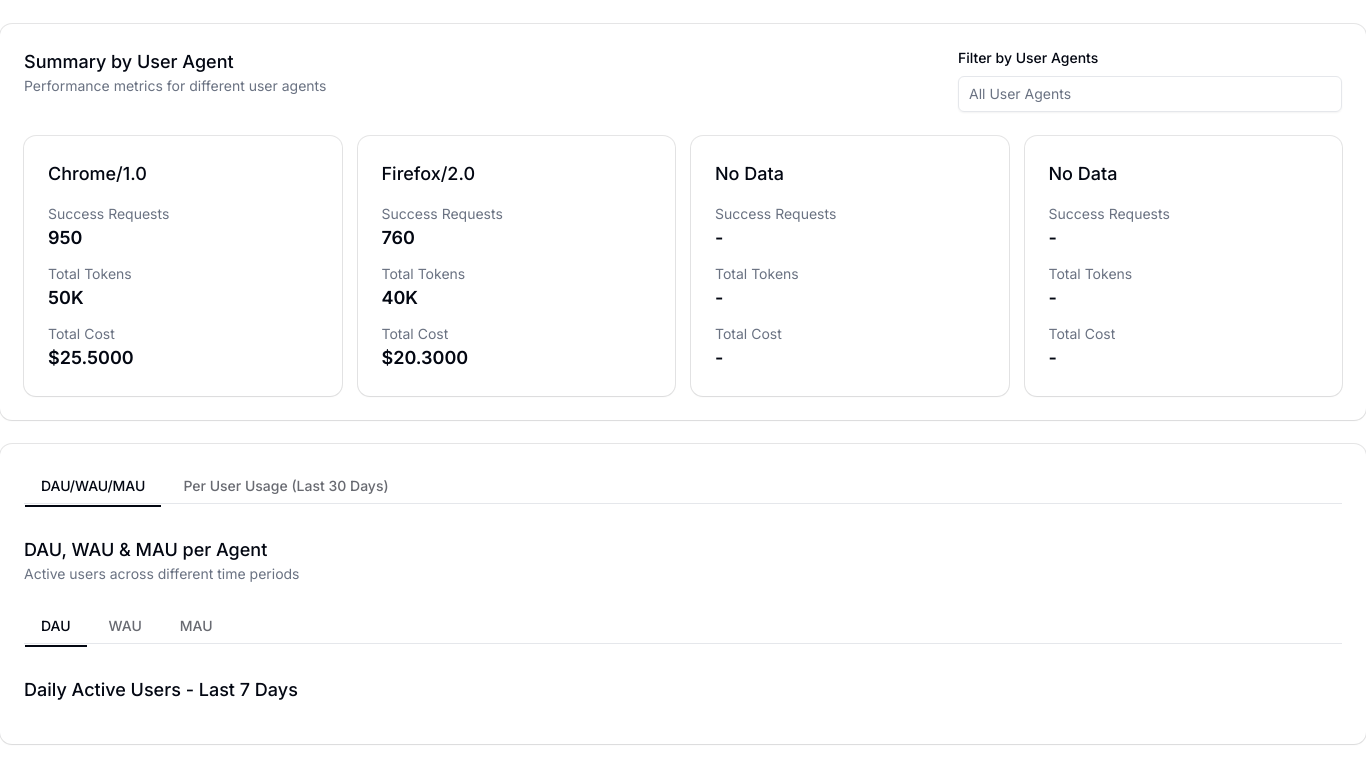
Test case: UserAgentActivity › should switch between DAU, WAU, and MAU tabs
Expected: the heading "Daily Active Users - Last 7 Days" is shown, [24,679,298,700]
# Find all WAU tab buttons (there might be multiple)
Click the tab "WAU" at (125, 626), box [92,608,159,642]
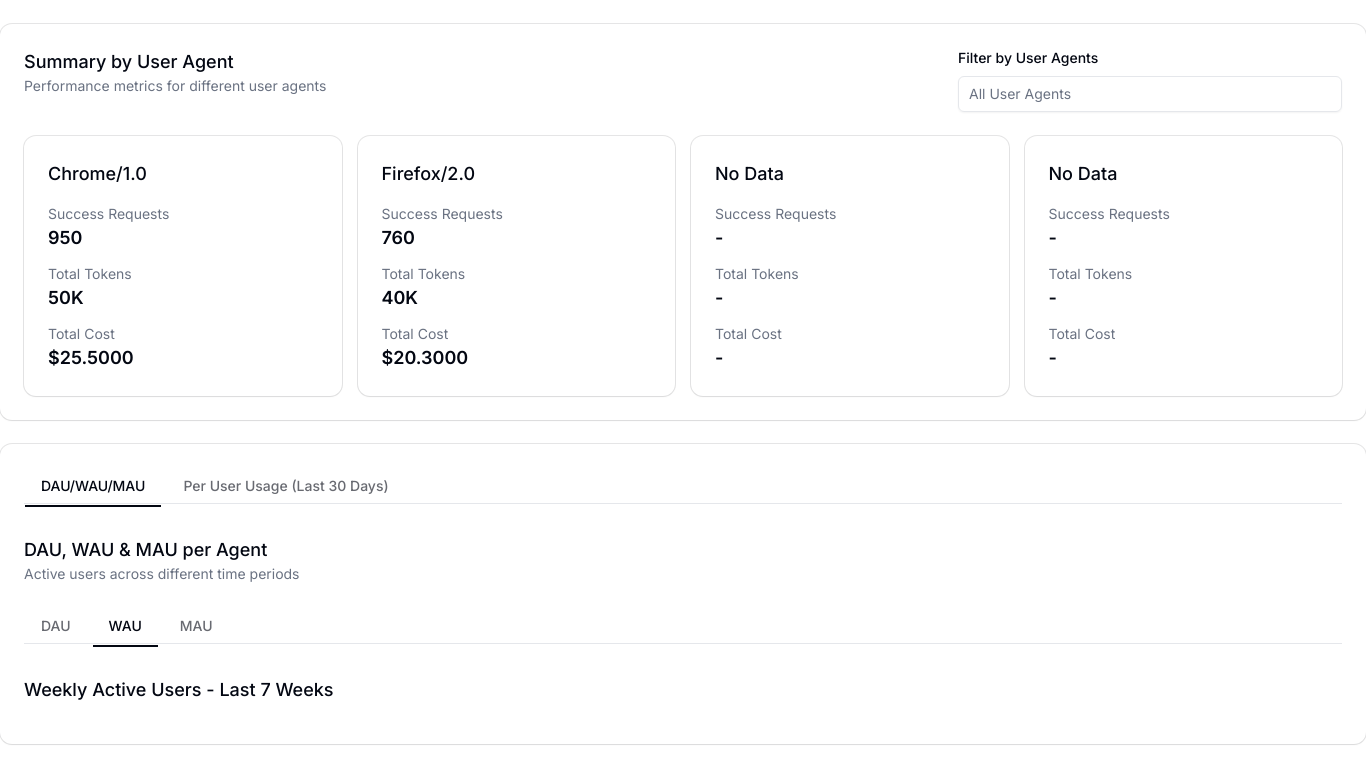
Expected: the heading "Weekly Active Users - Last 7 Weeks" is shown, [24,679,334,700]
# Find all MAU tab buttons
Click the tab "MAU" at (196, 626), box [163,608,230,642]
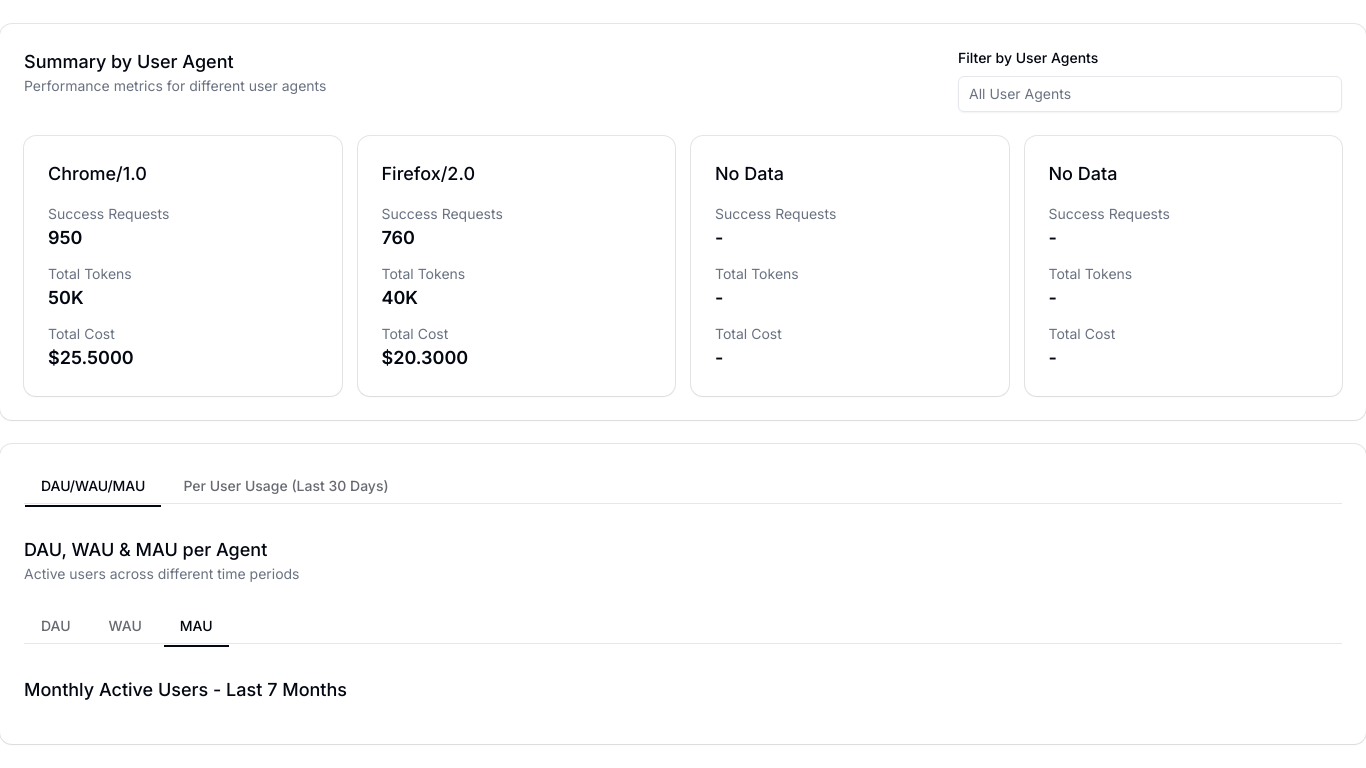
Expected: the heading "Monthly Active Users - Last 7 Months" is shown, [24,679,347,700]
